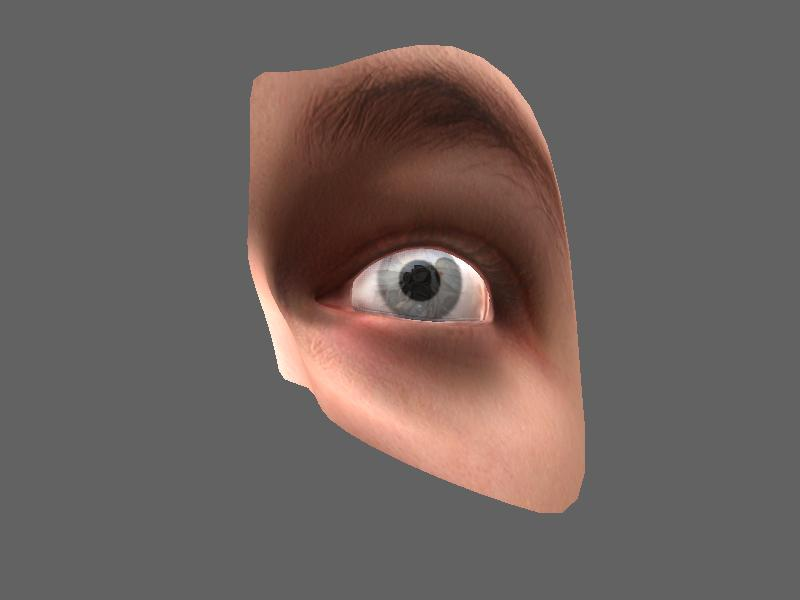iris: (372, 251, 464, 319)
